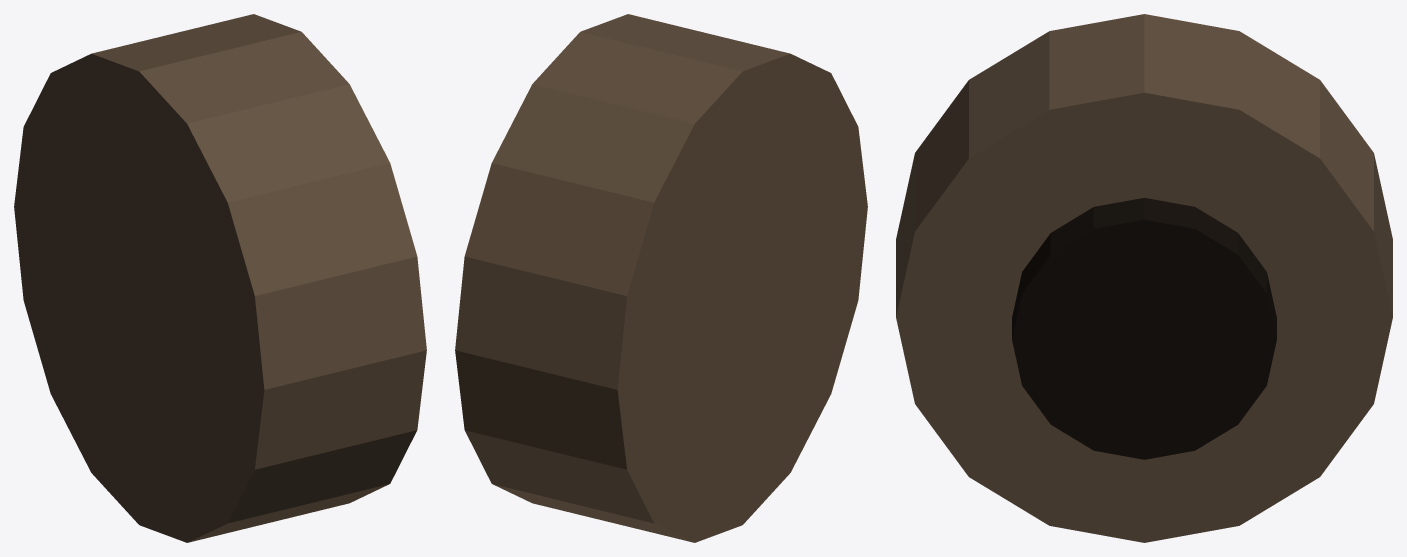
File: gun ship wheels.fbx
3 views of the same model, side by side, from view 1: azimuth 30°, elevation 25°; view 2: azimuth 150°, elevation 25°; view 3: azimuth 270°, elevation 25° (orthographic).
Parts seen in each view (by area): view 1: Цилиндр.005; view 2: Цилиндр.005; view 3: Цилиндр.005.
Boxes of the visible parts, <box> form: Цилиндр.005: <box>14,14,426,542</box>; Цилиндр.005: <box>455,14,867,542</box>; Цилиндр.005: <box>896,14,1392,542</box>.
Bounding box in the file's own units: 3.78 × 7.89 × 7.89.
